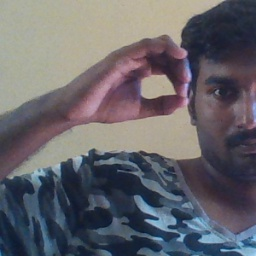O: (59, 30, 197, 128)
